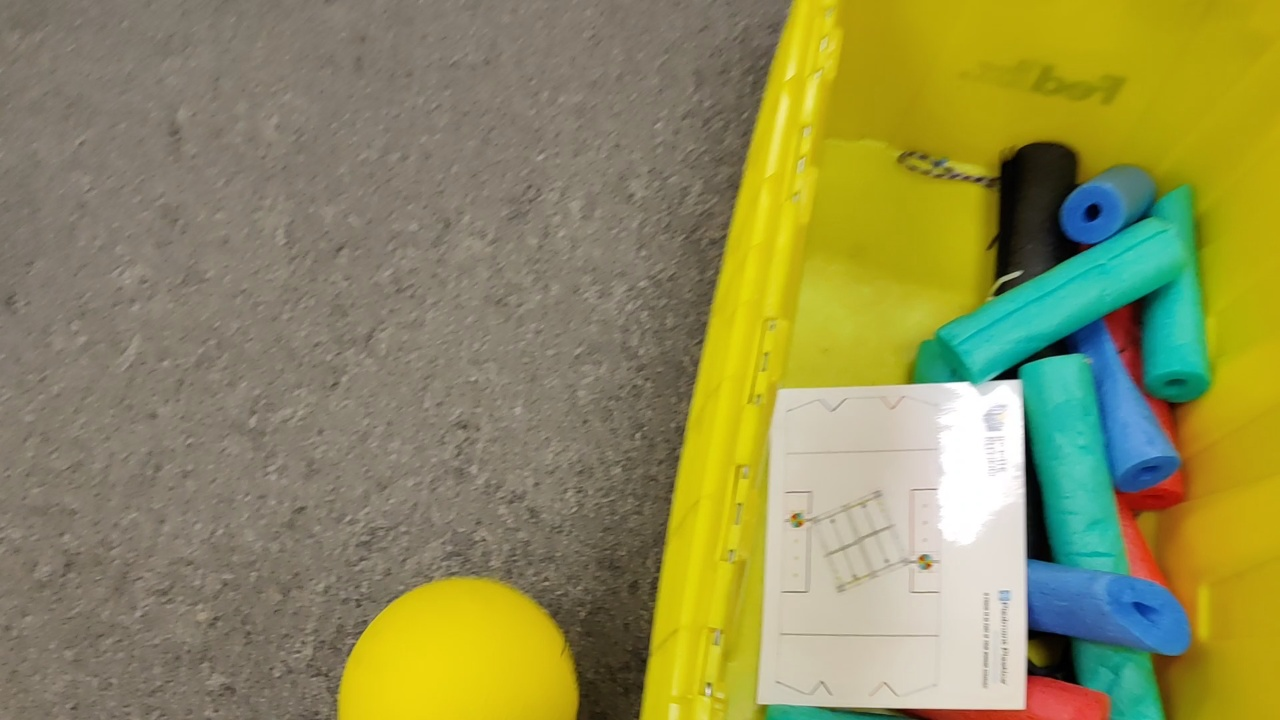Ball: (334, 575, 577, 720)
